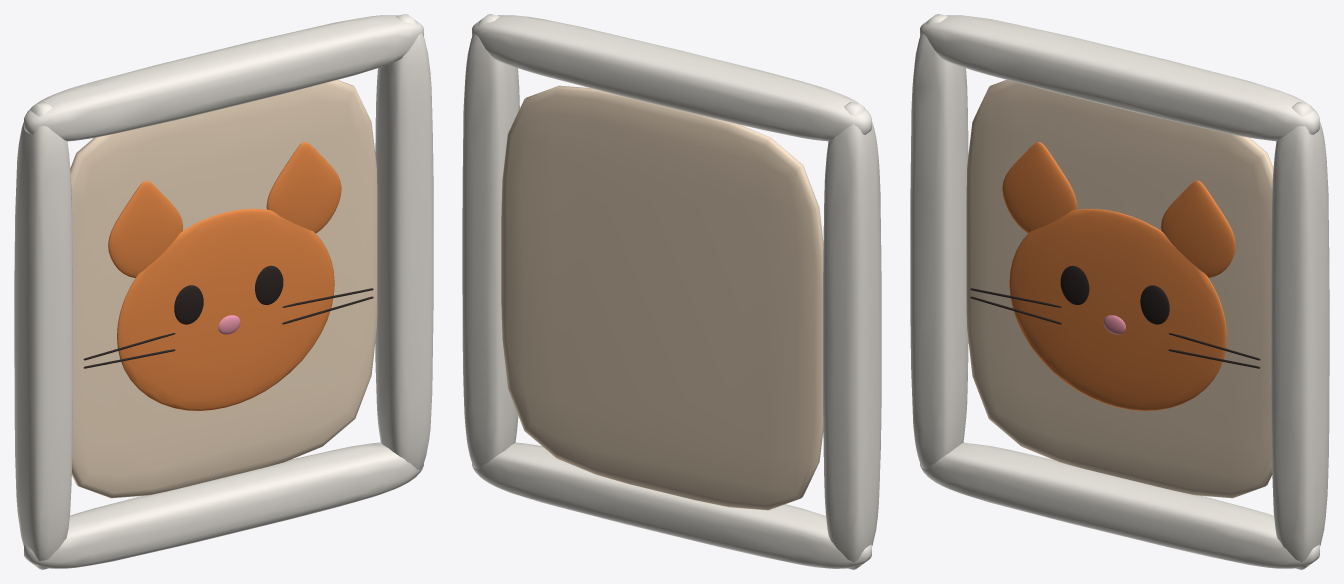
Rendered from deco_cuadro_gato.glb.
3 views of the same model, side by side, from view 1: azimuth 30°, elevation 25°; view 2: azimuth 150°, elevation 25°; view 3: azimuth 330°, elevation 25° (orthographic).
Parts seen in each view (by area): view 1: lienzo.011, cara gato.001, marco vertical.022, marco vertical.023, marco horizontal.023, marco horizontal.022, oreja gato -1.001, oreja gato 1.001, ojo gato -1.001, ojo gato 1.001; view 2: lienzo.011, marco vertical.022, marco horizontal.023, marco vertical.023, marco horizontal.022; view 3: lienzo.011, cara gato.001, marco vertical.023, marco vertical.022, marco horizontal.023, marco horizontal.022, oreja gato 1.001, oreja gato -1.001, ojo gato 1.001, ojo gato -1.001.
Boxes of the visible parts, x1=… form: lienzo.011: x1=70, y1=80, x2=377, y2=498; cara gato.001: x1=117, y1=208, x2=334, y2=410; marco vertical.022: x1=14, y1=102, x2=72, y2=569; marco vertical.023: x1=375, y1=14, x2=433, y2=470; marco horizontal.023: x1=24, y1=15, x2=423, y2=141; marco horizontal.022: x1=24, y1=442, x2=423, y2=568; oreja gato -1.001: x1=108, y1=180, x2=182, y2=277; oreja gato 1.001: x1=266, y1=142, x2=341, y2=233; ojo gato -1.001: x1=174, y1=285, x2=203, y2=324; ojo gato 1.001: x1=255, y1=265, x2=283, y2=304; lienzo.011: x1=501, y1=85, x2=823, y2=510; marco vertical.022: x1=823, y1=102, x2=881, y2=569; marco horizontal.023: x1=472, y1=15, x2=871, y2=141; marco vertical.023: x1=462, y1=14, x2=519, y2=469; marco horizontal.022: x1=472, y1=442, x2=871, y2=568; lienzo.011: x1=966, y1=80, x2=1273, y2=498; cara gato.001: x1=1009, y1=208, x2=1226, y2=410; marco vertical.023: x1=1270, y1=102, x2=1329, y2=569; marco vertical.022: x1=910, y1=14, x2=968, y2=469; marco horizontal.023: x1=920, y1=15, x2=1319, y2=141; marco horizontal.022: x1=920, y1=442, x2=1319, y2=568; oreja gato 1.001: x1=1160, y1=180, x2=1235, y2=277; oreja gato -1.001: x1=1002, y1=142, x2=1077, y2=233; ojo gato 1.001: x1=1140, y1=285, x2=1169, y2=324; ojo gato -1.001: x1=1060, y1=265, x2=1089, y2=304.
Size of the model in its own units: 0.5096 by 0.5697 by 0.0598.
